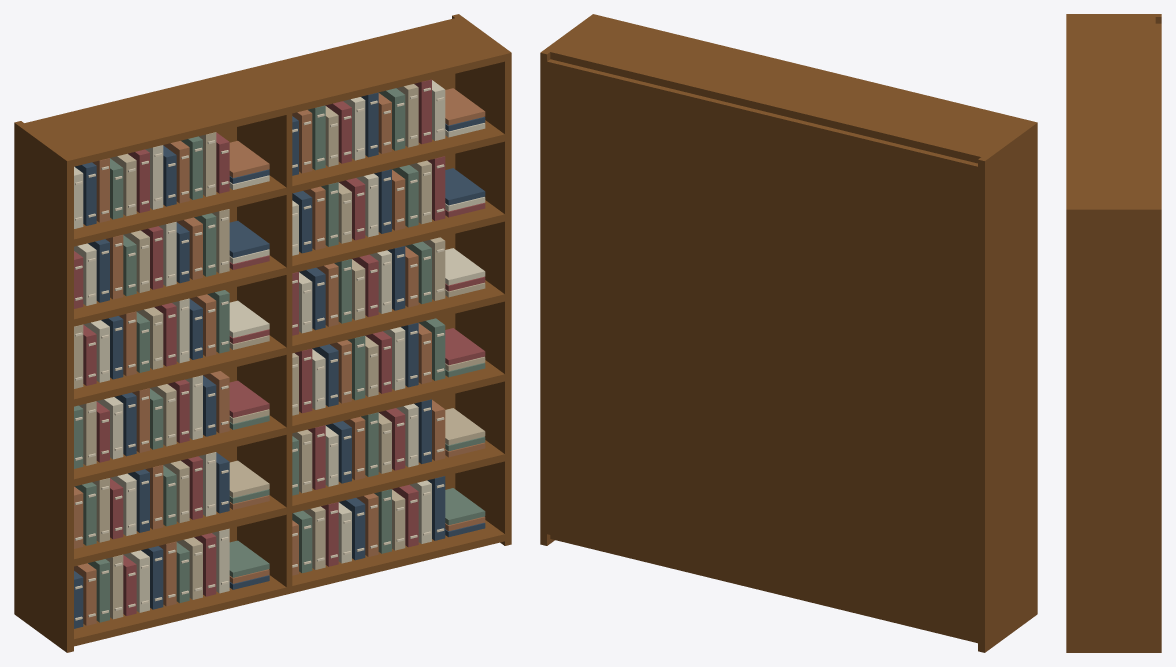
Rendered from shelf-books.glb.
3 renders of one model, left to right at view 1: azimuth 30°, elevation 25°; view 2: azimuth 150°, elevation 25°; view 3: azimuth 270°, elevation 25°, orthographic. The views are drawn at different scales.
Parts seen in each view (by area): view 1: display-deck (×7), display-side (×2), stock-books_9a5353, stock-books_c8b99c, stock-books_ad7652, stock-books_d9d1ba, stock-books_40566b, stock-books_718878, display-divider (×6), stock-details_e6dac1, display-back; view 2: display-back, display-side (×2), display-deck (×2); view 3: display-side (×2), display-deck, display-back.
Part boxes in pixels (x1,y1,x2,y2): display-deck (×7): (24,18,504,646); display-side (×2): (14,14,511,652); stock-books_9a5353: (74,79,485,615); stock-books_c8b99c: (74,84,485,619); stock-books_ad7652: (74,88,485,625); stock-books_d9d1ba: (74,80,485,612); stock-books_40566b: (74,92,485,628); stock-books_718878: (74,88,485,622); display-divider (×6): (237,113,292,587); stock-details_e6dac1: (75,87,444,620); display-back: (216,74,455,542); display-back: (547,59,977,639); display-side (×2): (540,14,1037,652); display-deck (×2): (550,15,1030,643); display-side (×2): (1066,14,1161,652); display-deck: (1066,17,1155,206); display-back: (1155,23,1161,206).
Size of the model in its own units: 1.94 by 2.05 by 0.4.
